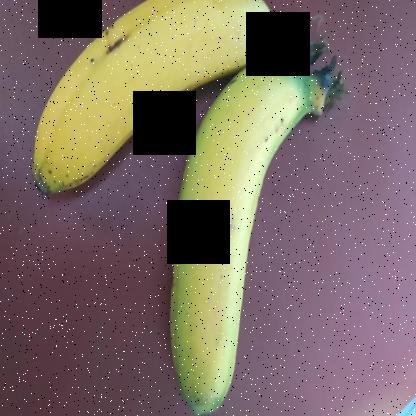freshripe: (147, 56, 347, 415), (25, 0, 264, 210)
